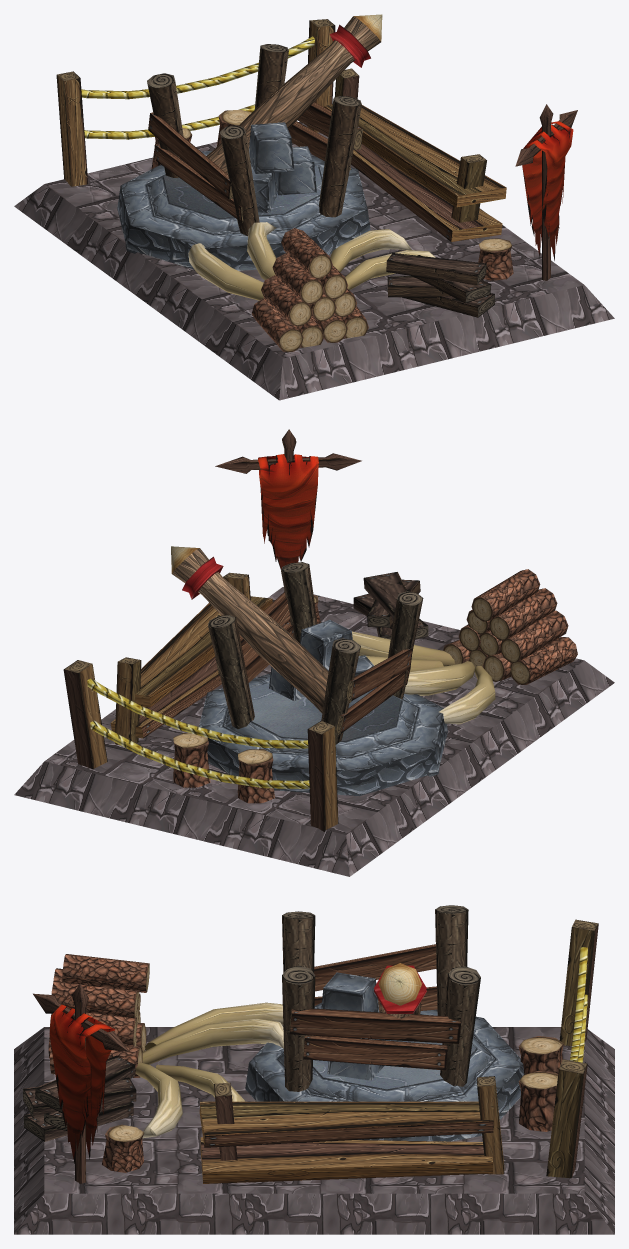
The model's file is Orc_construction_Sawmill.FBX.
The picture shows the model from 3 angles, top to bottom: view 1: azimuth 30°, elevation 25°; view 2: azimuth 150°, elevation 25°; view 3: azimuth 270°, elevation 25°; orthographic projection. The views are drawn at different scales.
Parts seen in each view (by area): view 1: floor006, foundation011, wood_table020, trunks001, wood_column001, wood_table019, wood_pilar029, step026, block003, Plane027, large_wood029, fangs001 (×2) (+8 smaller); view 2: floor006, foundation011, trunks001, wood_column001, wood_table020, wood_pilar029, Plane027, wood_table019, large_wood028, large_wood029, step026, block003 (+9 smaller); view 3: floor006, wood_table020, wood_table019, foundation011, wood_column001, trunks001, Plane027, step026, large_wood028, fangs003, fangs001 (×2), block003 (+9 smaller).
Part boxes in pixels (x1,y1,x2,y2): floor006: [14, 121, 614, 400]; foundation011: [117, 151, 370, 270]; wood_table020: [324, 68, 506, 241]; trunks001: [251, 228, 368, 352]; wood_column001: [147, 44, 361, 235]; wood_table019: [148, 102, 362, 222]; wood_pilar029: [206, 14, 382, 174]; step026: [386, 253, 494, 317]; block003: [249, 122, 316, 213]; Plane027: [522, 121, 573, 260]; large_wood029: [56, 71, 88, 186]; fangs001 (×2): [330, 229, 435, 289]; floor006: [14, 587, 614, 876]; foundation011: [199, 673, 447, 796]; trunks001: [443, 569, 577, 684]; wood_column001: [208, 562, 423, 744]; wood_table020: [110, 572, 272, 745]; wood_pilar029: [171, 546, 350, 713]; Plane027: [258, 454, 318, 569]; wood_table019: [215, 591, 412, 734]; large_wood028: [63, 660, 107, 768]; large_wood029: [307, 720, 338, 831]; step026: [353, 572, 428, 639]; block003: [269, 619, 376, 704]; floor006: [14, 1027, 614, 1234]; wood_table020: [199, 1076, 504, 1183]; wood_table019: [289, 944, 460, 1070]; foundation011: [245, 1009, 524, 1141]; wood_column001: [282, 905, 480, 1091]; trunks001: [48, 954, 149, 1077]; Plane027: [49, 1004, 114, 1163]; step026: [23, 1055, 136, 1141]; large_wood028: [546, 1059, 587, 1178]; fangs003: [142, 1018, 283, 1064]; fangs001 (×2): [135, 1062, 244, 1138]; block003: [314, 972, 384, 1080].
Size of the model in its own units: 4382 by 2430 by 5759.
